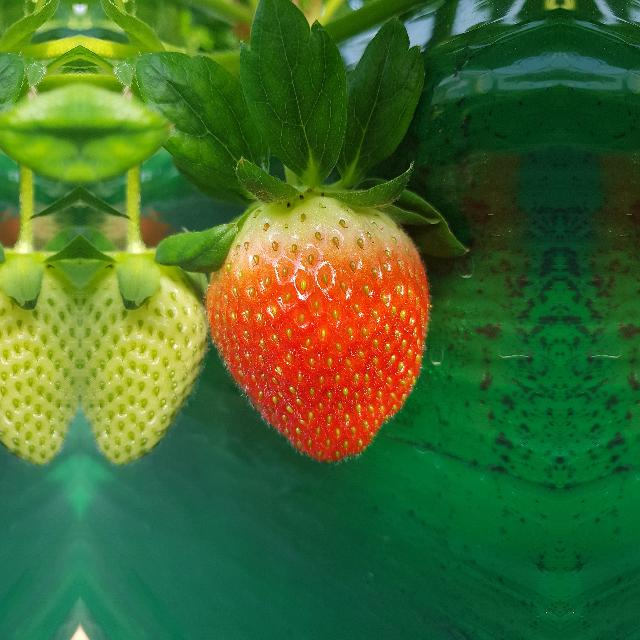Health_100: (204, 192, 430, 464), (83, 245, 209, 472), (0, 245, 77, 472)
